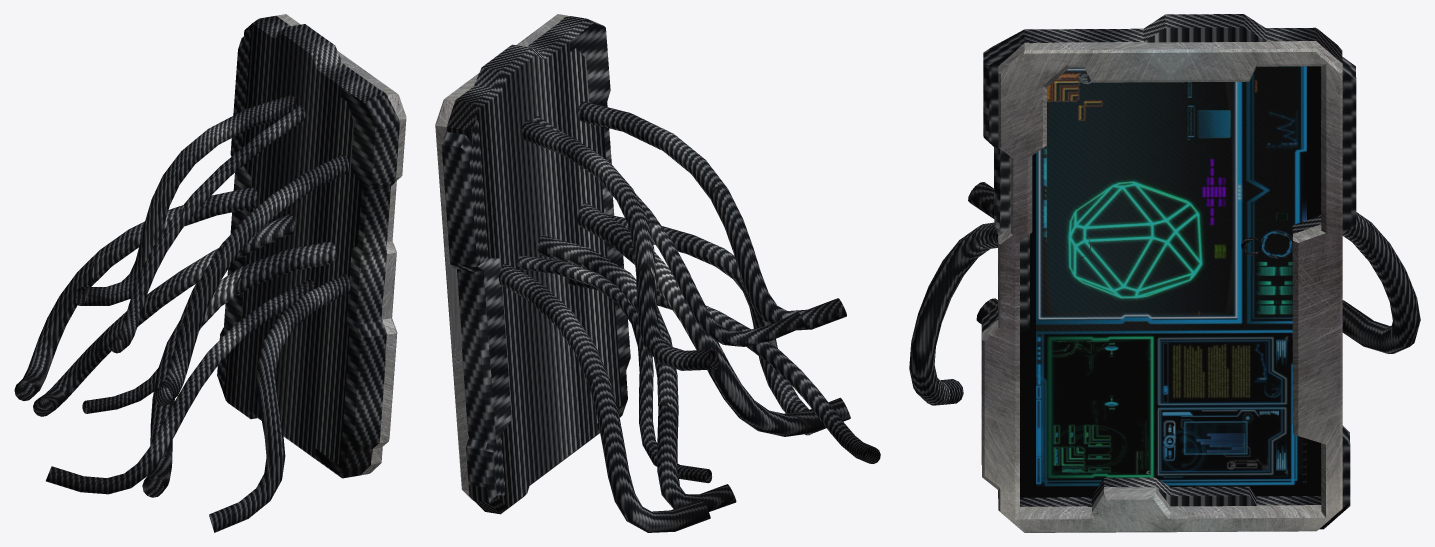
The model's file is tv_pion.fbx.
The picture shows the model from 3 angles, left to right: view 1: azimuth 30°, elevation 25°; view 2: azimuth 150°, elevation 25°; view 3: azimuth 270°, elevation 25°; orthographic projection. The views are drawn at different scales.
Visible parts, largest first — view 1: Cube.001; view 2: Cube.001; view 3: Cube.001.
Part boxes in pixels (left/top/right/bottom): Cube.001: left=14, top=14, right=406, bottom=532; Cube.001: left=435, top=14, right=880, bottom=532; Cube.001: left=909, top=14, right=1420, bottom=532.
Size of the model in its own units: 512 by 583 by 514.
Materials: 1 (1 with a texture image).
